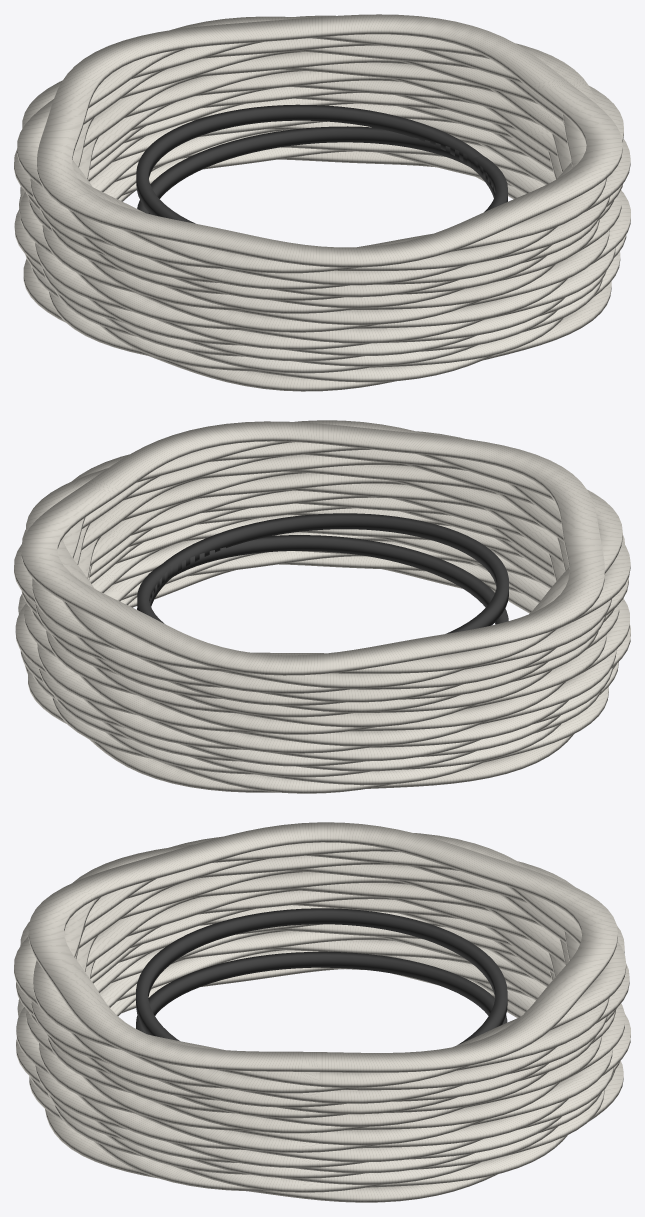
File: product-30-woven-thread.glb
3 renders of one model, top to bottom at view 1: azimuth 30°, elevation 25°; view 2: azimuth 150°, elevation 25°; view 3: azimuth 270°, elevation 25°, orthographic.
Parts seen in each view (by area): view 1: woven tape loop 25, thin binding tie strand, woven tape loop 24, woven tape loop 23, woven tape loop 12, woven tape loop 22, woven tape loop 11, woven tape loop 13, woven tape loop 00, woven tape loop 20, woven tape loop 21, woven tape loop 14 (+15 smaller); view 2: woven tape loop 25, thin binding tie strand, woven tape loop 24, woven tape loop 23, woven tape loop 11, woven tape loop 22, woven tape loop 13, woven tape loop 12, woven tape loop 21, woven tape loop 19, woven tape loop 10, woven tape loop 20 (+15 smaller); view 3: woven tape loop 25, thin binding tie strand, woven tape loop 24, woven tape loop 23, woven tape loop 22, woven tape loop 13, woven tape loop 20, woven tape loop 19, woven tape loop 21, woven tape loop 14, woven tape loop 12, woven tape loop 16 (+15 smaller).
Part boxes in pixels (box(x1,y1,x2,y2)): woven tape loop 25: box(37, 14, 622, 267); thin binding tie strand: box(136, 104, 507, 223); woven tape loop 24: box(17, 16, 606, 273); woven tape loop 23: box(22, 15, 623, 270); woven tape loop 12: box(19, 93, 609, 332); woven tape loop 22: box(30, 38, 630, 285); woven tape loop 11: box(20, 103, 567, 330); woven tape loop 13: box(42, 87, 621, 325); woven tape loop 00: box(23, 151, 611, 391); woven tape loop 20: box(81, 51, 551, 284); woven tape loop 21: box(14, 45, 609, 289); woven tape loop 14: box(87, 88, 555, 310); woven tape loop 25: box(21, 421, 604, 675); thin binding tie strand: box(137, 513, 508, 633); woven tape loop 24: box(26, 420, 622, 673); woven tape loop 23: box(32, 431, 630, 688); woven tape loop 11: box(37, 503, 629, 746); woven tape loop 22: box(14, 449, 611, 693); woven tape loop 13: box(24, 497, 606, 734); woven tape loop 12: box(25, 508, 565, 732); woven tape loop 21: box(22, 454, 624, 689); woven tape loop 19: box(21, 465, 605, 705); woven tape loop 10: box(15, 508, 616, 753); woven tape loop 20: box(35, 454, 628, 702); woven tape loop 25: box(28, 822, 617, 1072); thin binding tie strand: box(136, 908, 507, 1044); woven tape loop 24: box(33, 833, 626, 1087); woven tape loop 23: box(14, 836, 609, 1093); woven tape loop 22: box(20, 858, 624, 1090); woven tape loop 13: box(82, 908, 559, 1131); woven tape loop 20: box(16, 864, 607, 1107); woven tape loop 19: box(87, 870, 548, 1101); woven tape loop 21: box(31, 855, 629, 1103); woven tape loop 14: box(26, 899, 601, 1133); woven tape loop 12: box(39, 905, 624, 1145); woven tape loop 16: box(94, 890, 548, 1113).
Bounding box in the file's own units: 0.1541 × 0.0354 × 0.1544.
Materials: 2 (1 with a texture image).
